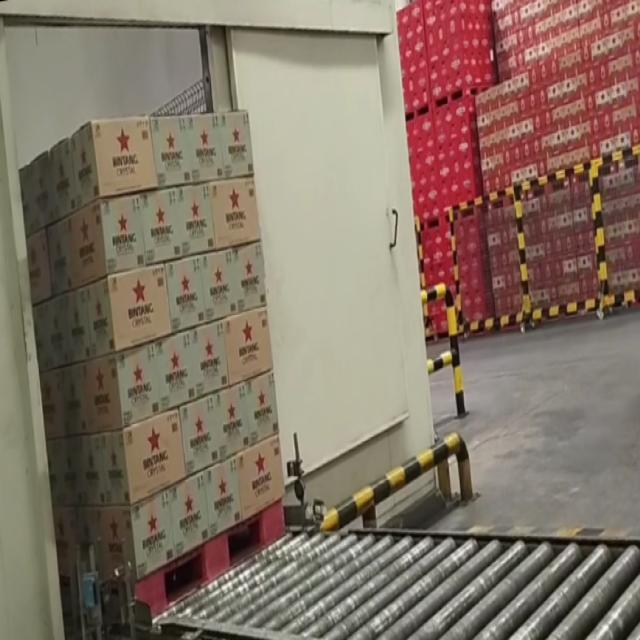pallet: (13, 84, 301, 630)
